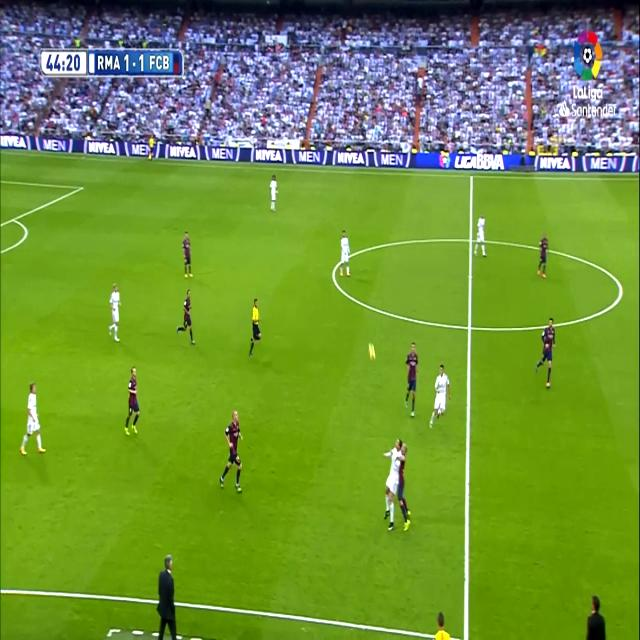bigarea_bottom_outter: (10, 211, 18, 226)
halfcircle_bottom: (463, 312, 476, 341)
halfcircle_top: (466, 228, 476, 252)
midline_top_intersection: (467, 170, 476, 184)
